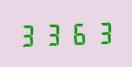six: (66, 19, 89, 46)
three: (42, 20, 65, 47), (18, 21, 41, 47), (90, 19, 113, 45)
